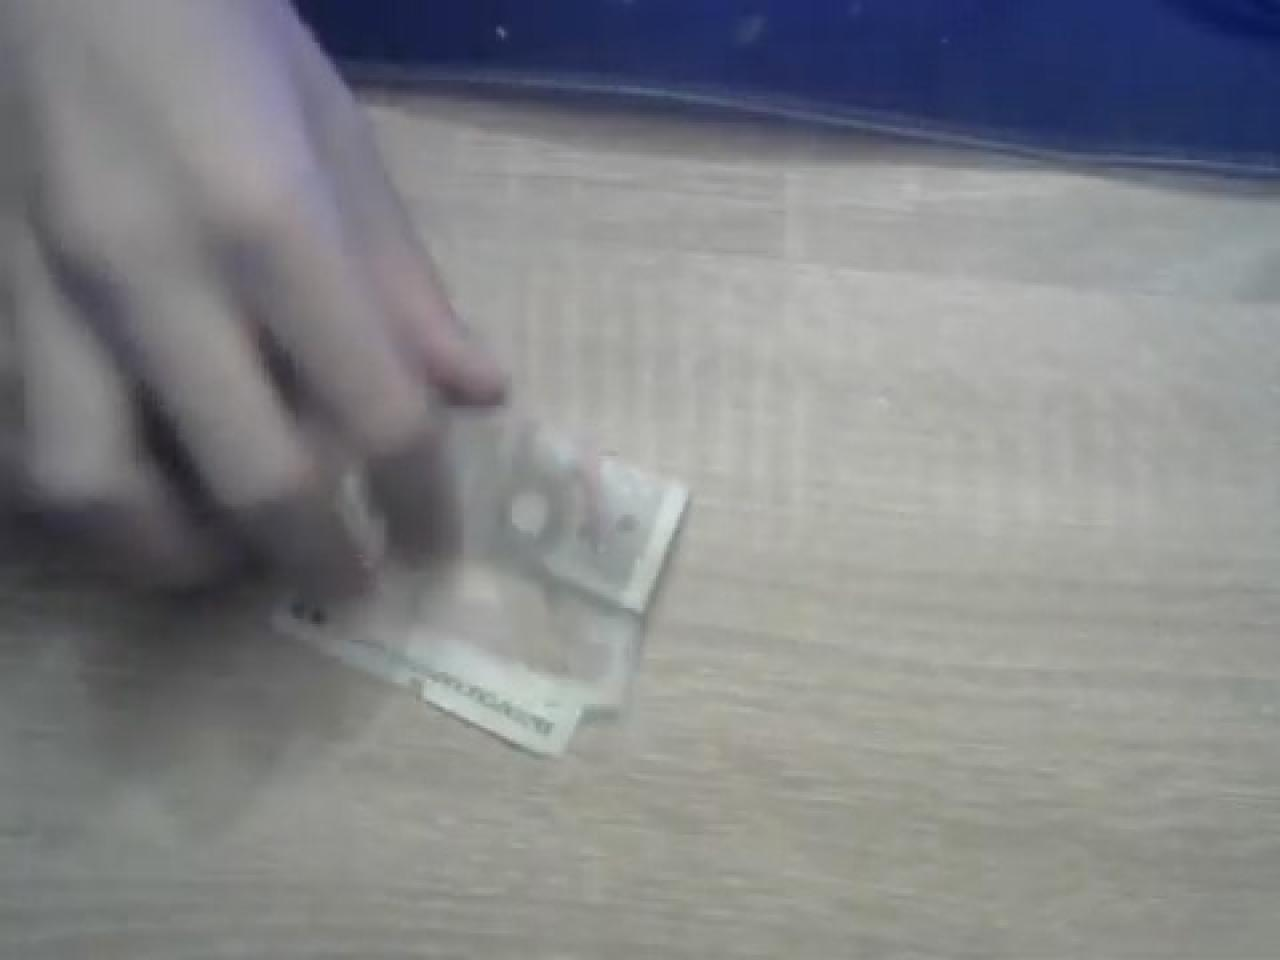10leva: (267, 397, 693, 759)
